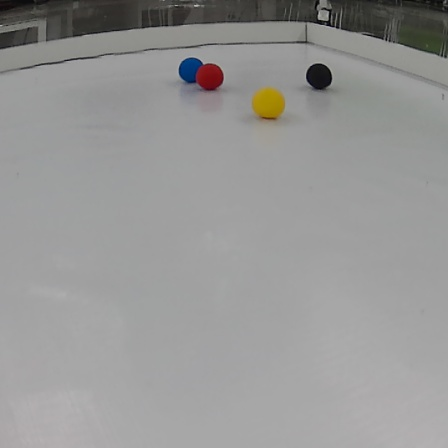blue: (176, 55, 204, 84)
red: (194, 62, 225, 91)
yellow: (250, 85, 289, 124)
